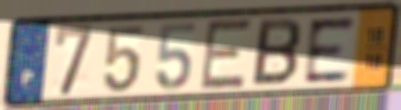5: (100, 23, 147, 95), (153, 20, 197, 93)
7: (52, 21, 97, 99)
B: (249, 17, 304, 89)
E: (197, 16, 255, 92), (303, 14, 357, 86)
